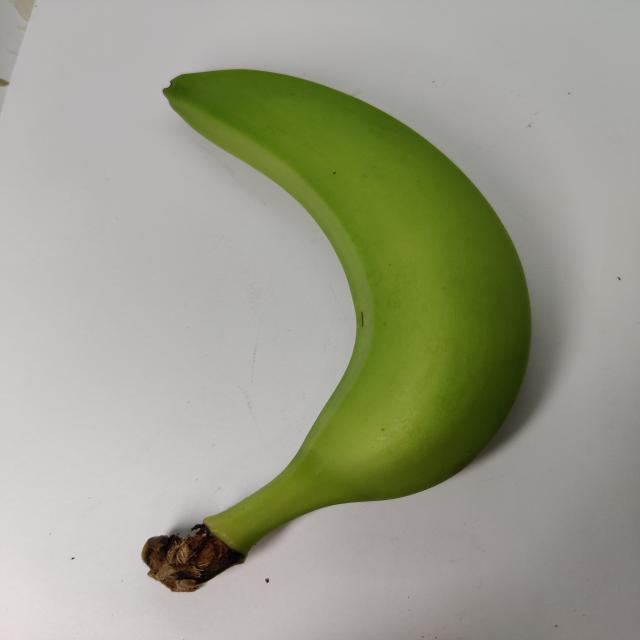raw: (68, 42, 590, 598)
